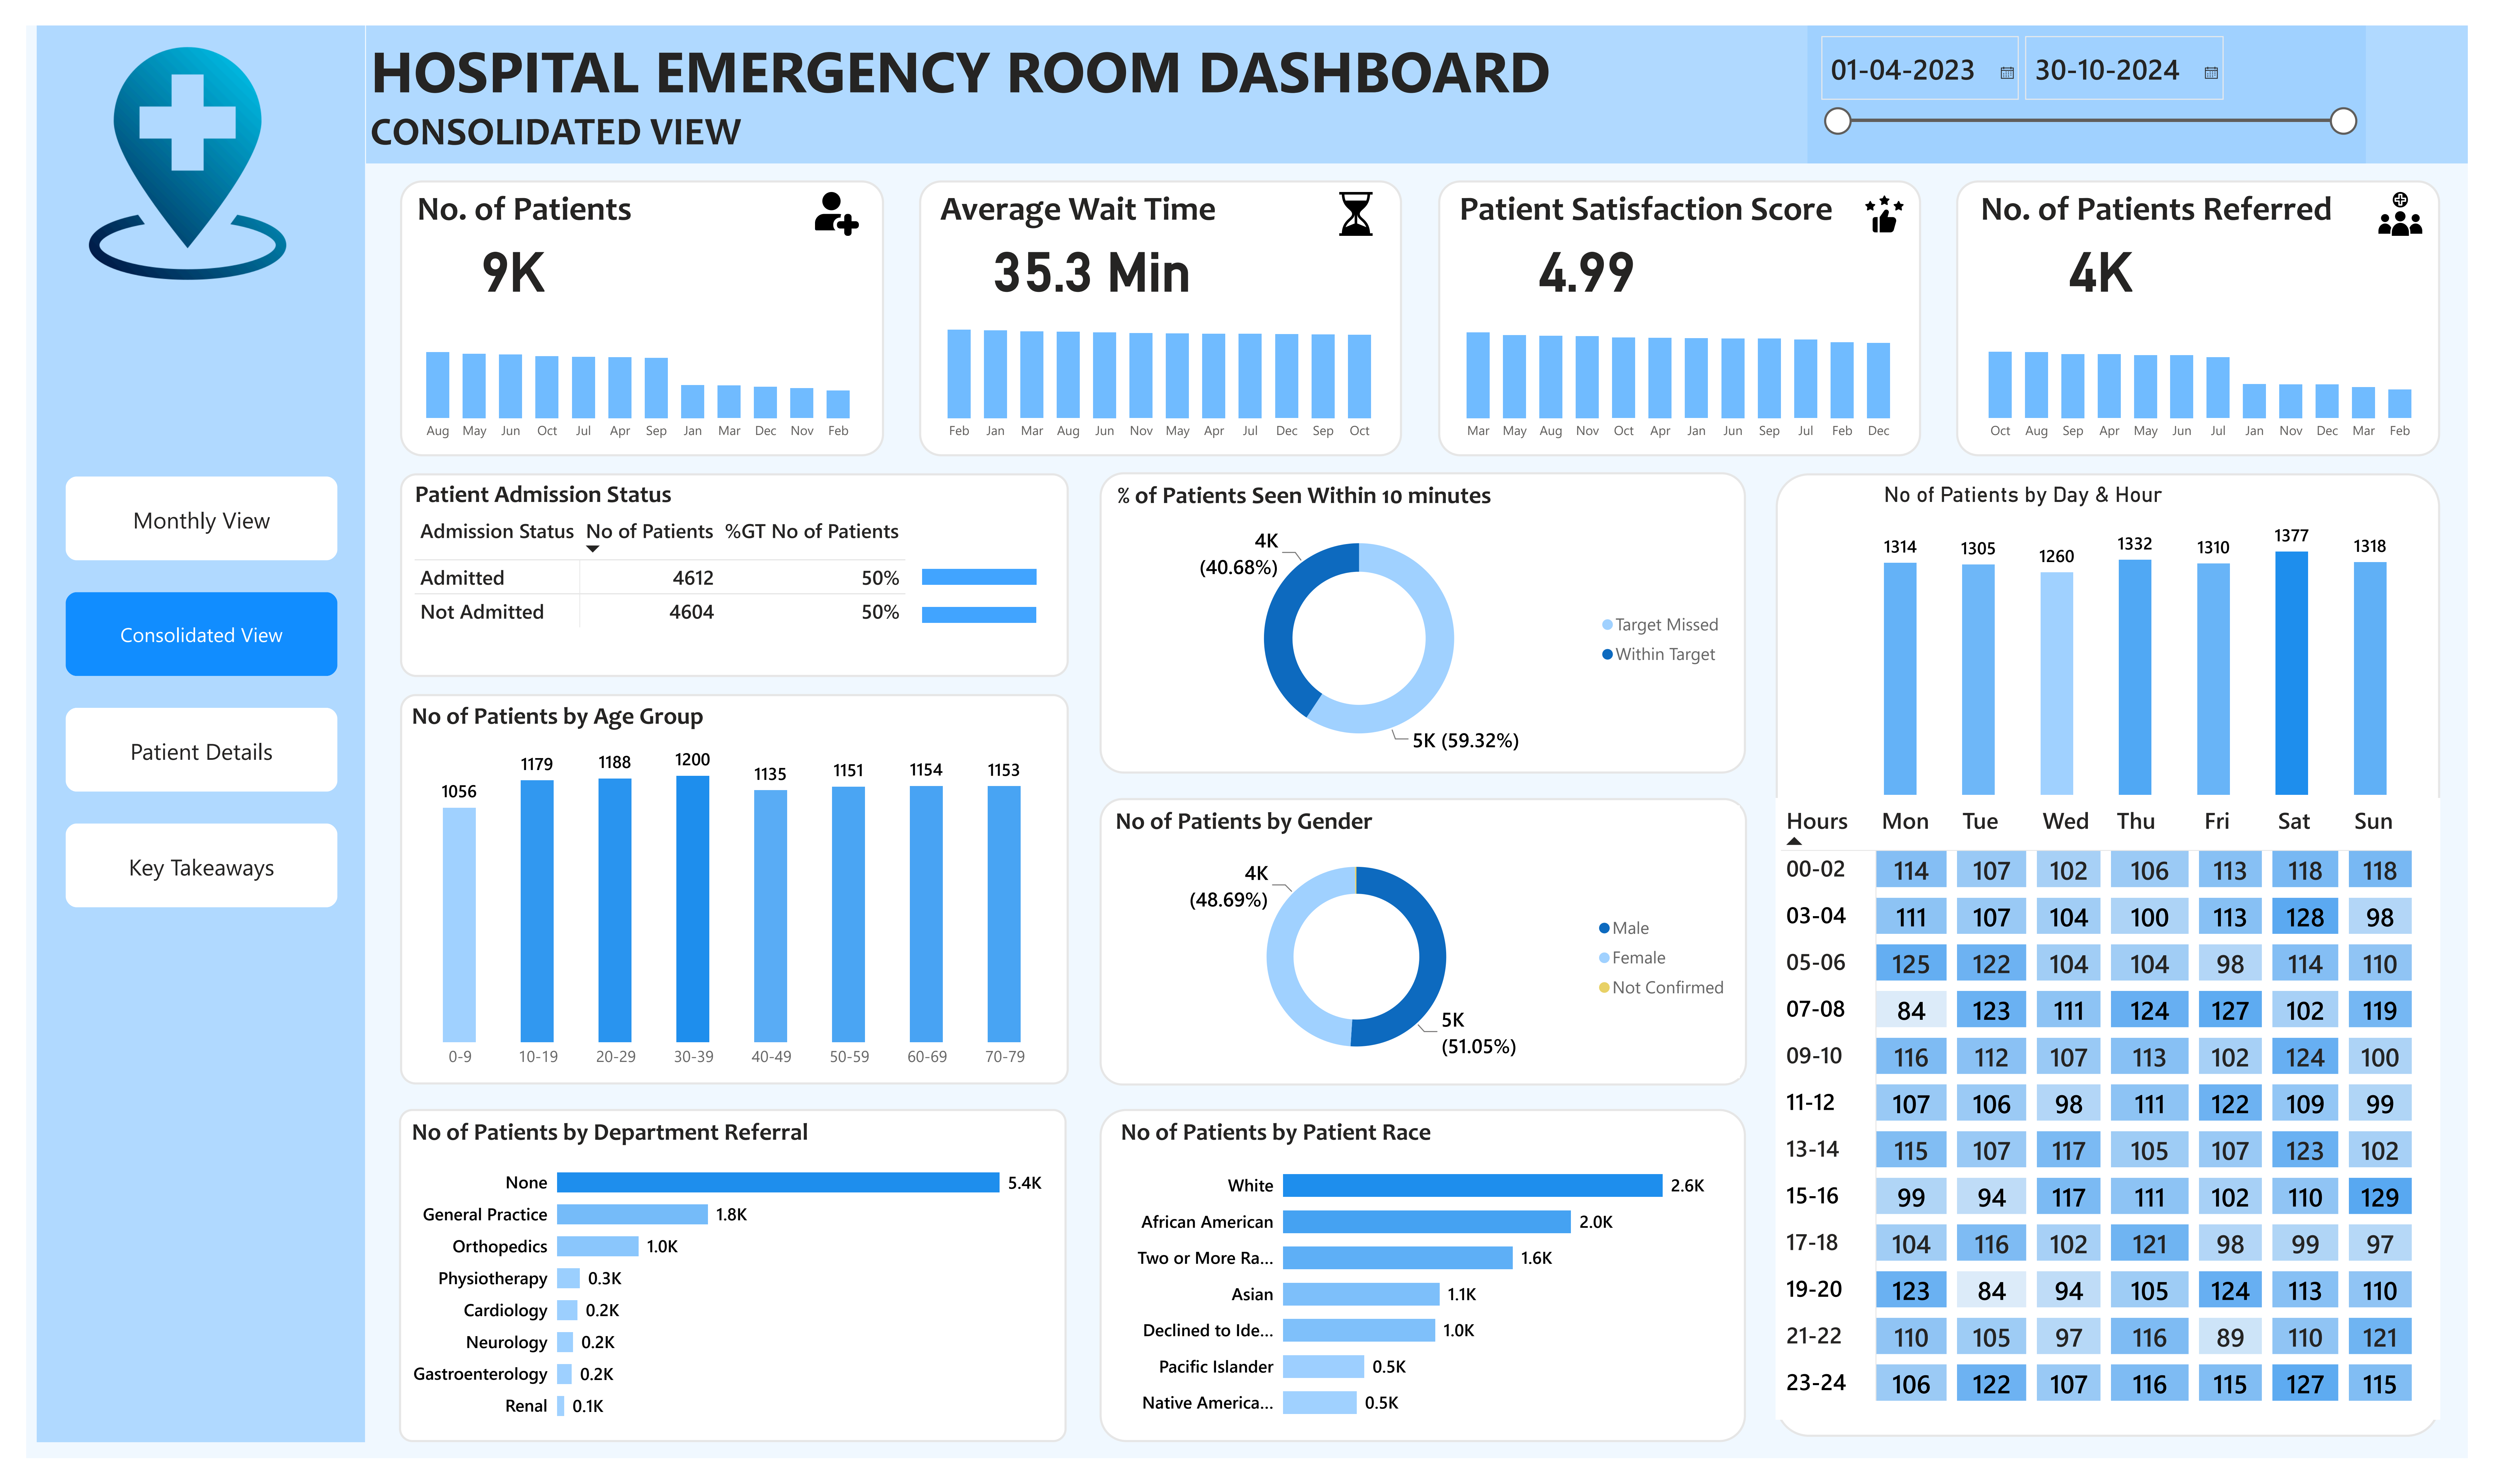

What the dashboard file says about the page in this screenshot:
{"tool":"powerbi","page":{"name":"Consolidated View","canvas":[2300,1350],"ordinal":1},"visuals":[{"type":"shape","box":[9.7,0,309.7,1335],"z":0},{"type":"shape","box":[352,146,456,260],"z":1000},{"type":"shape","box":[320,0,2080,130],"z":2000},{"type":"textbox","box":[319.1,0,1183.1,93.3],"z":3000},{"type":"textbox","box":[319.1,71.2,385.4,58.9],"z":4000},{"type":"cardVisual","fields":{"Data":["Hospital ER_Data.No of Patients"]},"box":[380,184,156,92],"z":5000},{"type":"slicer","fields":{"Values":["Date.Date"]},"box":[1678,0,526,130],"z":6000},{"type":"textbox","box":[362.9,147.6,217.7,50.8],"z":7000},{"type":"shape","box":[841.3,146,455,260],"z":8000},{"type":"columnChart","fields":{"Category":["Date.Month Name"],"Y":["Hospital ER_Data.No of Patients"]},"box":[358.4,265.1,436.9,135],"z":9000},{"type":"cardVisual","fields":{"Data":["Hospital ER_Data.Averge Wait Time"]},"box":[880,184,248,92],"z":10000},{"type":"textbox","box":[856.5,147.6,294,50],"z":11000},{"type":"shape","box":[1818,146,456,260],"z":12000},{"type":"shape","box":[1329.7,146,455,260],"z":13000},{"type":"columnChart","fields":{"Category":["Date.Month Name"],"Y":["Hospital ER_Data.No of Patient Referred"]},"box":[1829.6,266.2,436,134],"z":14000},{"type":"columnChart","fields":{"Category":["Date.Month Name"],"Y":["Hospital ER_Data.Satisfaction Score"]},"box":[1337.7,265.1,436.9,135],"z":15000},{"type":"columnChart","fields":{"Category":["Date.Month Name"],"Y":["Avg(Hospital ER_Data.Patient Waittime)"]},"box":[849.3,265.1,436.9,135],"z":16000},{"type":"textbox","box":[1836.3,147.6,367.7,50.8],"z":17000},{"type":"textbox","box":[1345.2,147.6,380,50],"z":18000},{"type":"cardVisual","fields":{"Data":["Hospital ER_Data.No of Patient Referred"]},"box":[1876,184,156,92],"z":19000},{"type":"cardVisual","fields":{"Data":["Hospital ER_Data.Satisfaction Score"]},"box":[1392,184,156,92],"z":20000},{"type":"shape","box":[352,422,630,192],"z":21000},{"type":"pivotTable","title":"Patient Admission Status","fields":{"Rows":["Hospital ER_Data.Admission Status"],"Values":["Hospital ER_Data.No of Patients","Divide(Hospital ER_Data.No of Patients, ScopedEval(Hospital ER_Data.No of Patients, []))"]},"box":[360.8,427.1,481.1,179.2],"z":22000},{"type":"barChart","fields":{"Category":["Hospital ER_Data.Admission Status"],"Y":["Hospital ER_Data.No of Patients"]},"box":[839.5,481.1,149.7,108],"z":23000},{"type":"shape","box":[352,630,630,368],"z":24000},{"type":"clusteredColumnChart","fields":{"Category":["Hospital ER_Data.Age Group"],"Y":["Hospital ER_Data.No of Patients"]},"box":[358.1,636.3,614.5,355.6],"z":25000},{"type":"shape","box":[350.8,1021,629,314.5],"z":26000},{"type":"clusteredBarChart","fields":{"Category":["Hospital ER_Data.Department Referral"],"Y":["Hospital ER_Data.No of Patients"]},"box":[358.1,1028.2,609.7,300],"z":27000},{"type":"shape","box":[1011.3,421,609,284],"z":28000},{"type":"donutChart","title":"% of Patients Seen Within 10 minutes","fields":{"Category":["Hospital ER_Data.WaitTime Status"],"Y":["Hospital ER_Data.No of Patients"]},"box":[1023.4,428.2,585.5,271],"z":29000},{"type":"shape","box":[1011.3,728.2,609.7,271],"z":30000},{"type":"donutChart","title":"No of Patients by Gender","fields":{"Y":["Hospital ER_Data.No of Patients"],"Category":["Hospital ER_Data.Patient Gender"]},"box":[1021,735.5,592.7,256.5],"z":31000},{"type":"shape","box":[1011.3,1021,609,314.5],"z":32000},{"type":"clusteredBarChart","fields":{"Y":["Hospital ER_Data.No of Patients"],"Category":["Hospital ER_Data.Patient Race"]},"box":[1025.8,1028.2,580.6,300],"z":33000},{"type":"shape","box":[1648,422,626,908],"z":34000},{"type":"pivotTable","fields":{"Rows":["Hospital ER_Data.Waittime Interval"],"Values":["Hospital ER_Data.No of Patients"],"Columns":["Date.Day Name Short"]},"box":[1648,728,626,586],"z":35000},{"type":"columnChart","title":"No of Patients by Day & Hour","fields":{"Category":["Date.Day Name Short"],"Y":["Hospital ER_Data.No of Patients"]},"box":[1745.2,429.5,486,301.9],"z":36000},{"type":"image","box":[42,20,220,220],"z":37000},{"type":"pageNavigator","box":[36.8,424.6,256,408],"z":38000},{"type":"image","box":[742.7,157.3,41.1,41.1],"z":39000},{"type":"image","box":[1231.5,157.3,41.1,41.1],"z":40000},{"type":"image","box":[1729.8,157.3,41.1,41.1],"z":41000},{"type":"image","box":[2216.1,157.3,41.1,41.1],"z":42000}]}

Visuals, with their boxes on the page's 2300x1350 design canvas (x1, y1, x2, y2). These are canvas units, not pixel positions in the 2494x1484 screenshot, which may show the page scaled, cropped or inside an application window:
shape: bbox=(10, 0, 319, 1335)
shape: bbox=(352, 146, 808, 406)
shape: bbox=(320, 0, 2400, 130)
textbox: bbox=(319, 0, 1502, 93)
textbox: bbox=(319, 71, 704, 130)
cardVisual - Hospital ER_Data.No of Patients: bbox=(380, 184, 536, 276)
slicer - Date.Date: bbox=(1678, 0, 2204, 130)
textbox: bbox=(363, 148, 581, 198)
shape: bbox=(841, 146, 1296, 406)
columnChart - Date.Month Name x Hospital ER_Data.No of Patients: bbox=(358, 265, 795, 400)
cardVisual - Hospital ER_Data.Averge Wait Time: bbox=(880, 184, 1128, 276)
textbox: bbox=(856, 148, 1150, 198)
shape: bbox=(1818, 146, 2274, 406)
shape: bbox=(1330, 146, 1785, 406)
columnChart - Date.Month Name x Hospital ER_Data.No of Patient Referred: bbox=(1830, 266, 2266, 400)
columnChart - Date.Month Name x Hospital ER_Data.Satisfaction Score: bbox=(1338, 265, 1775, 400)
columnChart - Date.Month Name x Avg(Hospital ER_Data.Patient Waittime): bbox=(849, 265, 1286, 400)
textbox: bbox=(1836, 148, 2204, 198)
textbox: bbox=(1345, 148, 1725, 198)
cardVisual - Hospital ER_Data.No of Patient Referred: bbox=(1876, 184, 2032, 276)
cardVisual - Hospital ER_Data.Satisfaction Score: bbox=(1392, 184, 1548, 276)
shape: bbox=(352, 422, 982, 614)
"Patient Admission Status" pivotTable: bbox=(361, 427, 842, 606)
barChart - Hospital ER_Data.Admission Status x Hospital ER_Data.No of Patients: bbox=(840, 481, 989, 589)
shape: bbox=(352, 630, 982, 998)
clusteredColumnChart - Hospital ER_Data.Age Group x Hospital ER_Data.No of Patients: bbox=(358, 636, 973, 992)
shape: bbox=(351, 1021, 980, 1336)
clusteredBarChart - Hospital ER_Data.Department Referral x Hospital ER_Data.No of Patients: bbox=(358, 1028, 968, 1328)
shape: bbox=(1011, 421, 1620, 705)
"% of Patients Seen Within 10 minutes" donutChart: bbox=(1023, 428, 1609, 699)
shape: bbox=(1011, 728, 1621, 999)
"No of Patients by Gender" donutChart: bbox=(1021, 736, 1614, 992)
shape: bbox=(1011, 1021, 1620, 1336)
clusteredBarChart - Hospital ER_Data.No of Patients x Hospital ER_Data.Patient Race: bbox=(1026, 1028, 1606, 1328)
shape: bbox=(1648, 422, 2274, 1330)
pivotTable - Hospital ER_Data.Waittime Interval x Hospital ER_Data.No of Patients: bbox=(1648, 728, 2274, 1314)
"No of Patients by Day & Hour" columnChart: bbox=(1745, 430, 2231, 731)
image: bbox=(42, 20, 262, 240)
pageNavigator: bbox=(37, 425, 293, 833)
image: bbox=(743, 157, 784, 198)
image: bbox=(1232, 157, 1273, 198)
image: bbox=(1730, 157, 1771, 198)
image: bbox=(2216, 157, 2257, 198)
